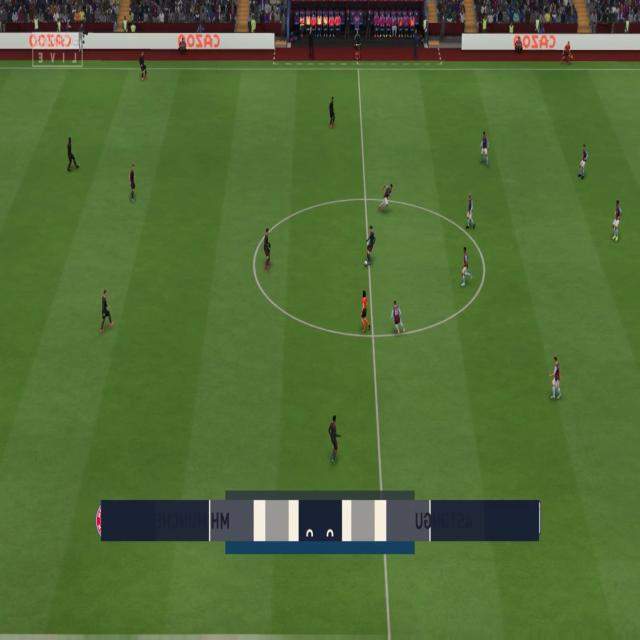Ball: (364, 259, 368, 266)
Referee: (359, 291, 371, 333)
Team-A: (97, 289, 113, 333), (328, 415, 340, 465), (364, 226, 377, 267), (64, 138, 79, 173), (262, 228, 272, 270), (127, 165, 137, 205), (327, 99, 337, 130), (138, 54, 148, 80)
Team-H: (610, 200, 624, 242), (457, 245, 470, 288), (550, 357, 562, 400), (391, 301, 406, 334), (377, 182, 392, 212), (578, 145, 590, 182), (478, 133, 488, 169), (465, 194, 475, 228)
